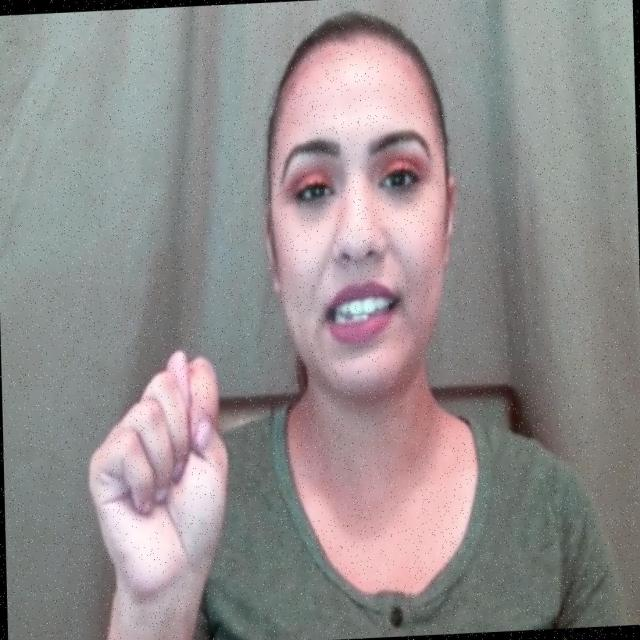T: (81, 345, 234, 598)
